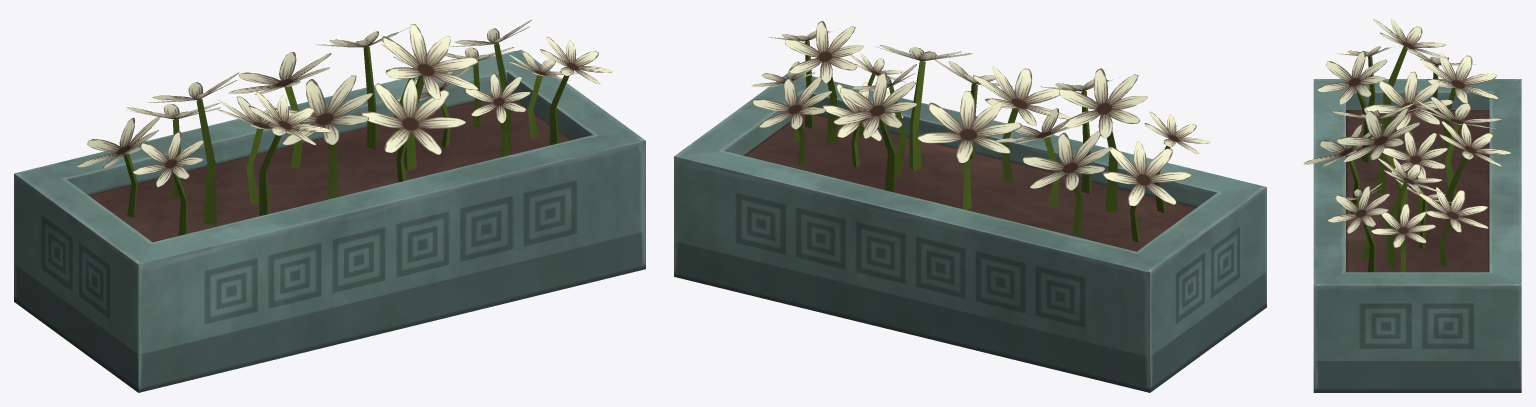
The model's file is flowerPot4.fbx.
3 views of the same model, side by side, from view 1: azimuth 30°, elevation 25°; view 2: azimuth 150°, elevation 25°; view 3: azimuth 270°, elevation 25° (orthographic). The views are drawn at different scales.
Parts seen in each view (by area): view 1: polySurface2268; view 2: polySurface2268; view 3: polySurface2268.
Boxes of the visible parts, x1,y1,x2,y2 form: polySurface2268: (14,20,645,392); polySurface2268: (674,21,1266,392); polySurface2268: (1303,19,1521,392).
Bounding box in the file's own units: 1.67 × 0.8015 × 0.7745.
